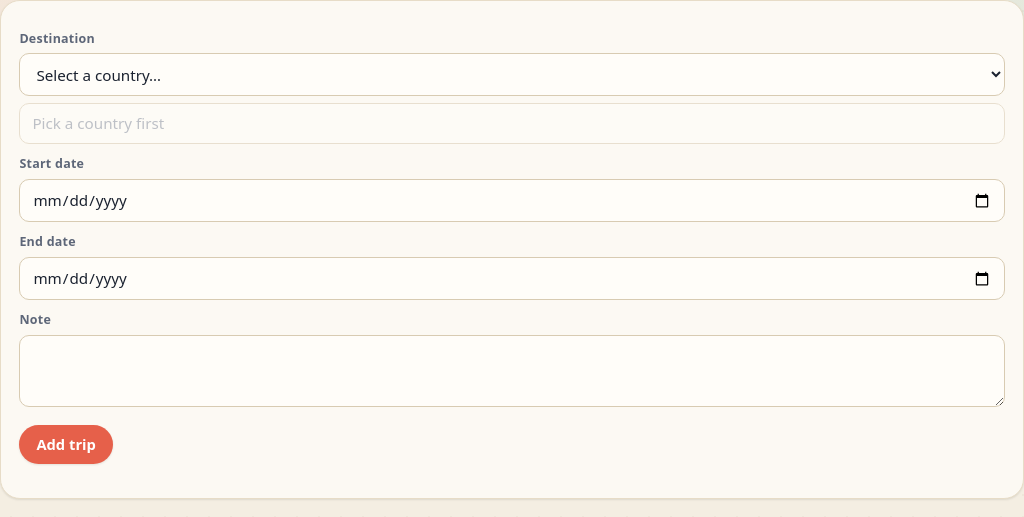
TripForm › disables the city field until a country is chosen, then scopes search to it
The width and height of the screenshot is (1024, 517).
Check: the field named "City" is disabled, box [19,103,1005,144]
Select "Portugal" in the dropdown named "Country" at (512, 75), box [19,53,1005,96]
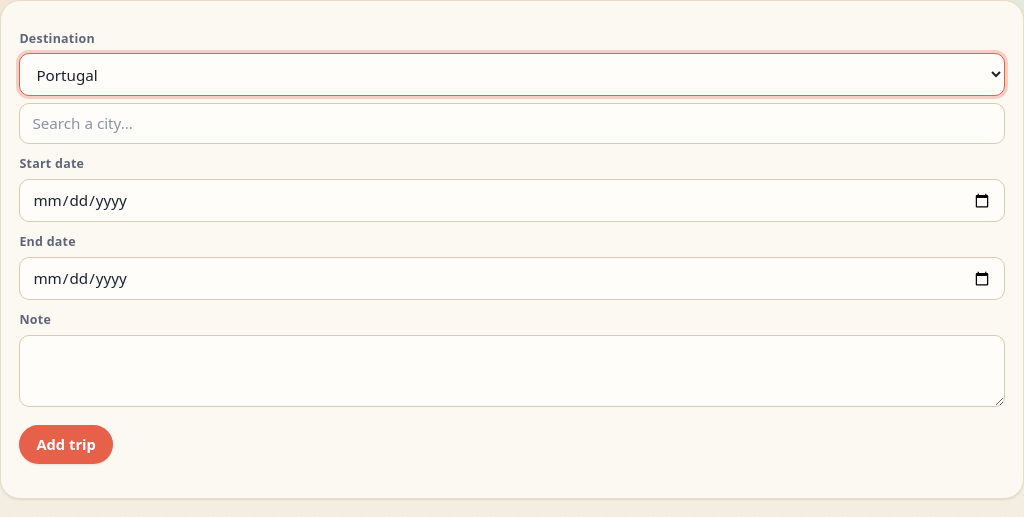
Check: the field labelled "city" is enabled
Type "Lis" into the field labelled "city" at (512, 124), box [19,103,1005,144]
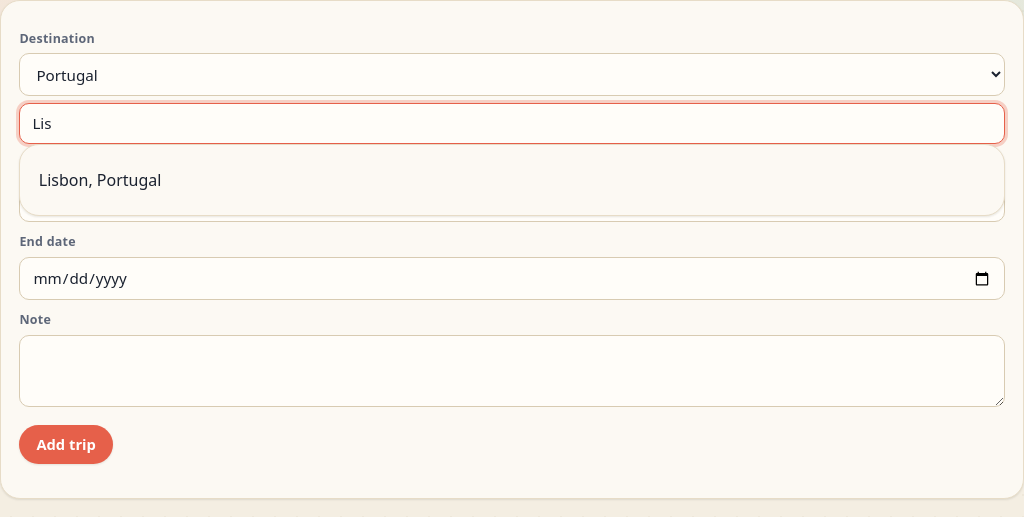
Check: the text "Lisbon, Portugal" is shown, box [39,169,161,191]
